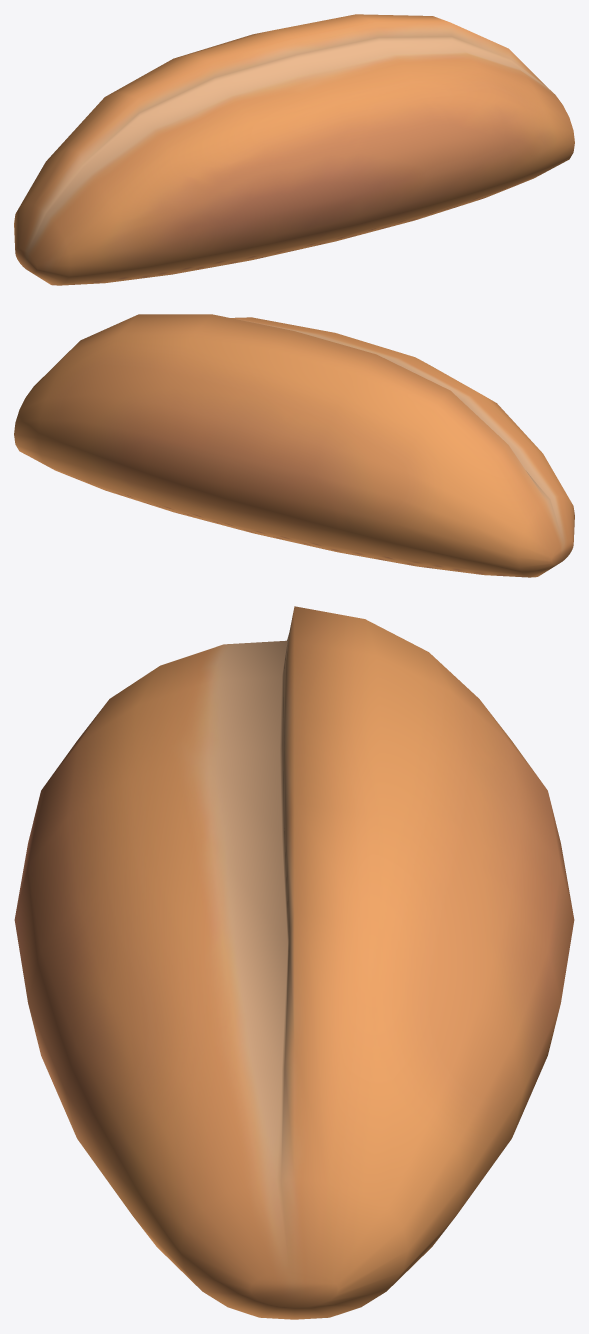
Rendered from bread_0.fbx.
The picture shows the model from 3 angles, top to bottom: view 1: azimuth 30°, elevation 25°; view 2: azimuth 150°, elevation 25°; view 3: azimuth 270°, elevation 25°; orthographic projection. The views are drawn at different scales.
Parts seen in each view (by area): view 1: pie.001; view 2: pie.001; view 3: pie.001.
Boxes of the visible parts, <box> form: pie.001: <box>14,14,574,285</box>; pie.001: <box>14,314,574,577</box>; pie.001: <box>14,606,574,1319</box>.
Bounding box in the file's own units: 30.96 × 10.26 × 13.99.
